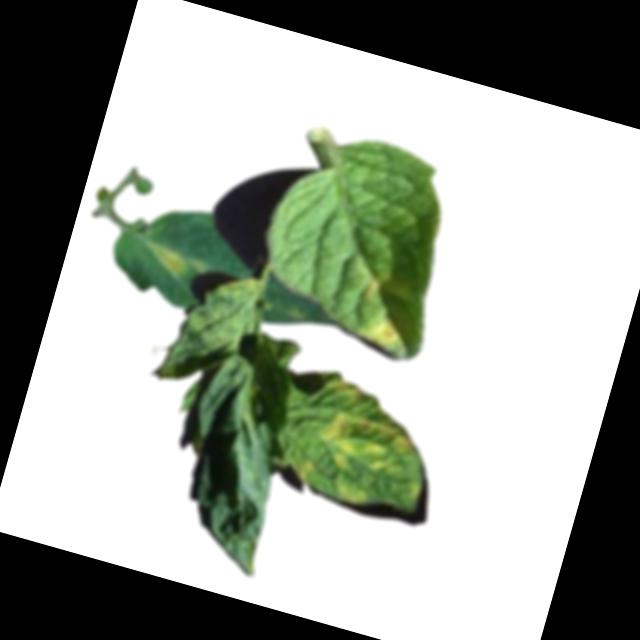Leaf_Mold: (317, 376, 427, 483), (138, 237, 213, 284), (357, 311, 400, 352), (331, 477, 372, 509), (357, 271, 381, 304), (290, 458, 315, 485)
